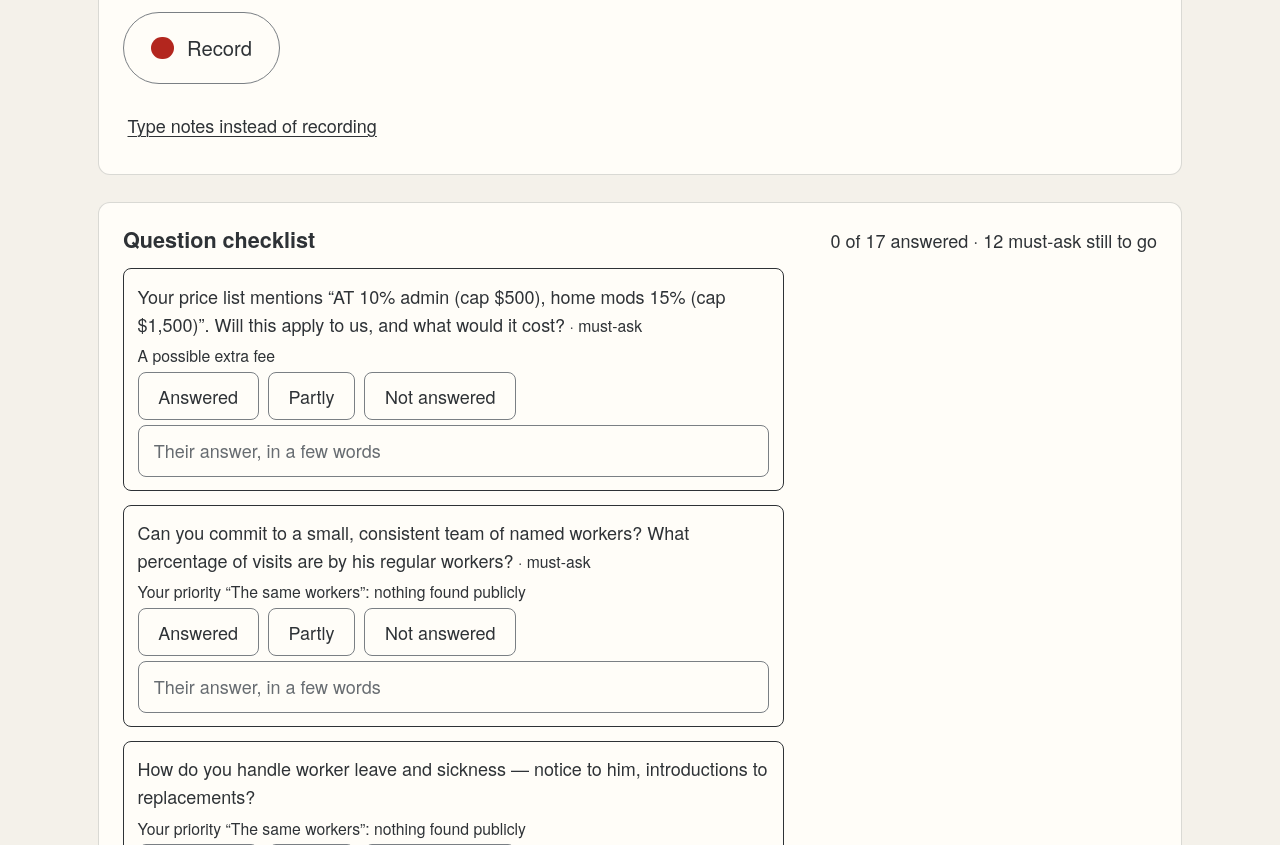
Scenario: Interview checklist › ticks questions off with a rating and a note
(page scrolled)
Expected: the text "0 of 17 answered · 12 must-ask still to go" is shown, [830,227,1157,255]
Click the button "Answered" below "A possible extra fee": [198, 396] box [138,372,259,420]
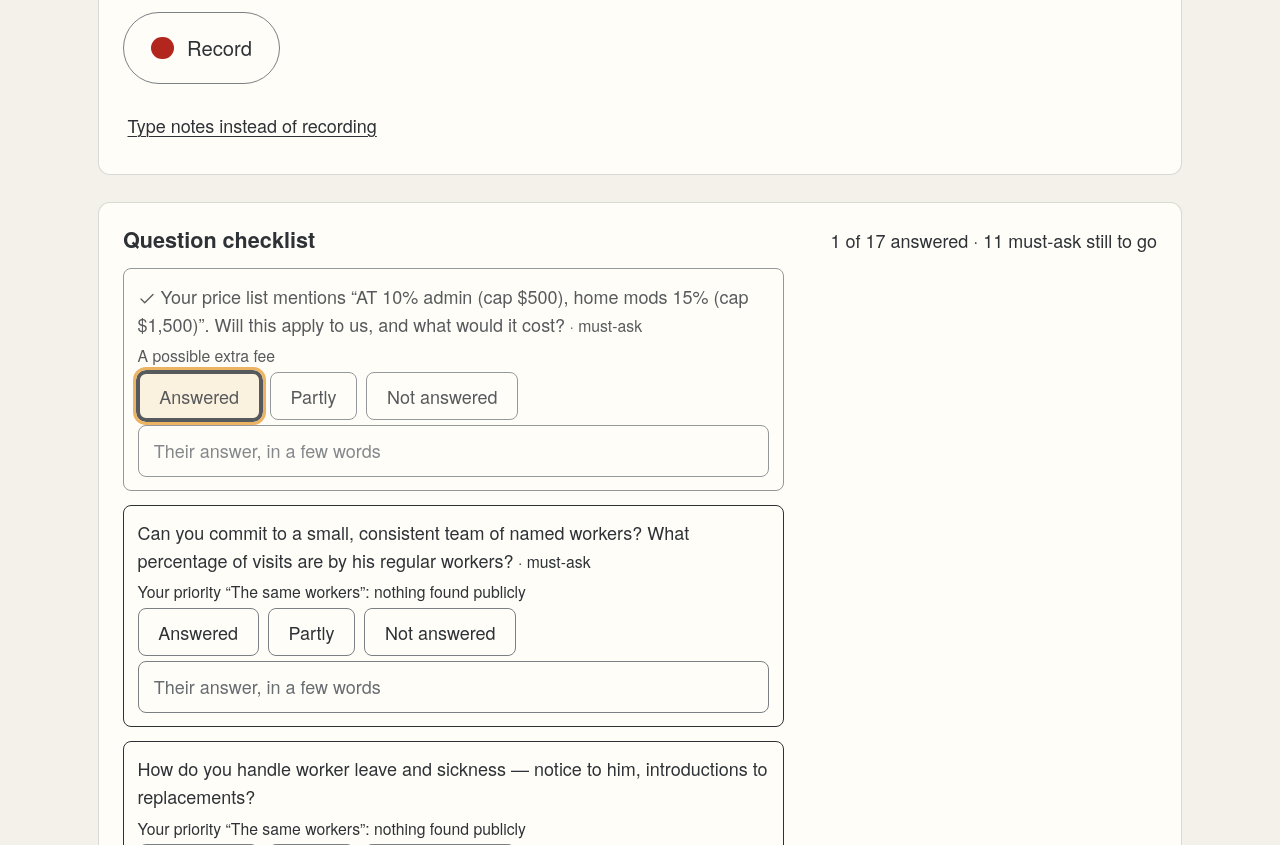
Expected: the text "1 of 17 answered · 11 must-ask still to go" is shown, [830,227,1157,255]
